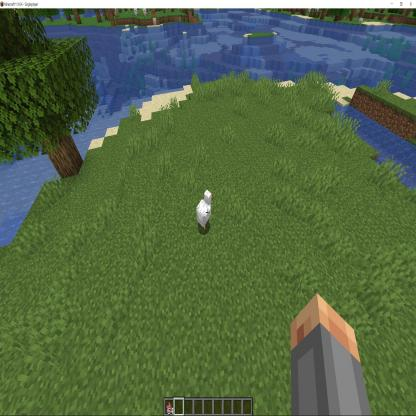minecraft-pigs: (196, 189, 214, 235)
